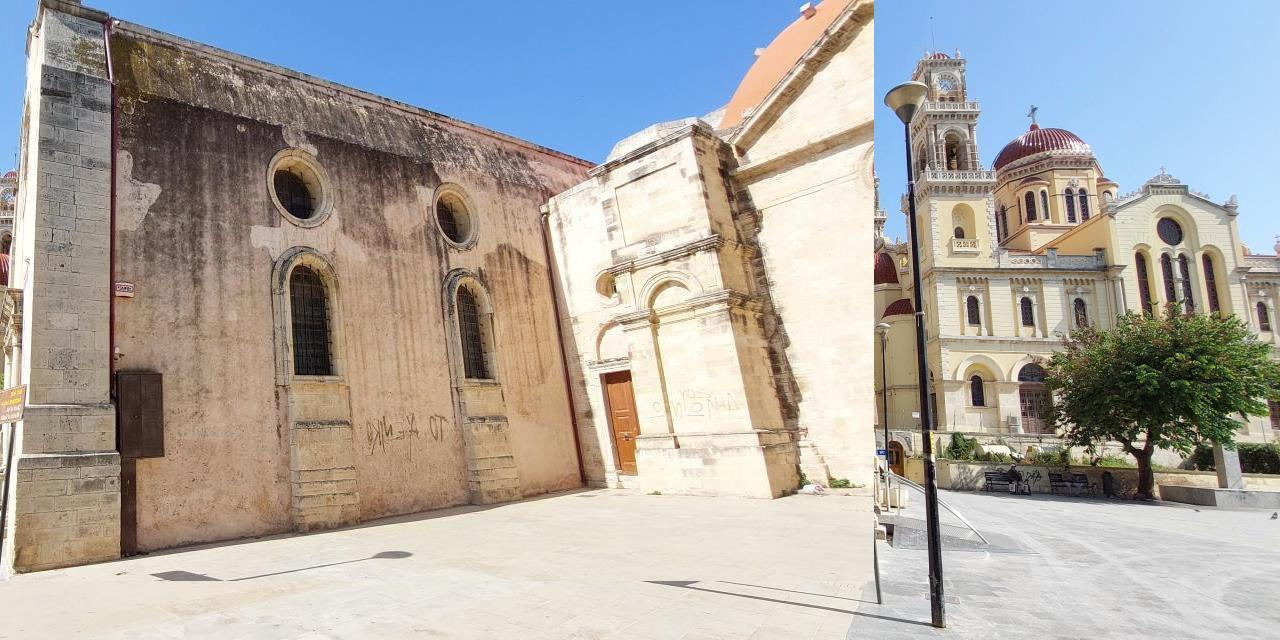Agia Aikaterini: (1, 1, 875, 582)
